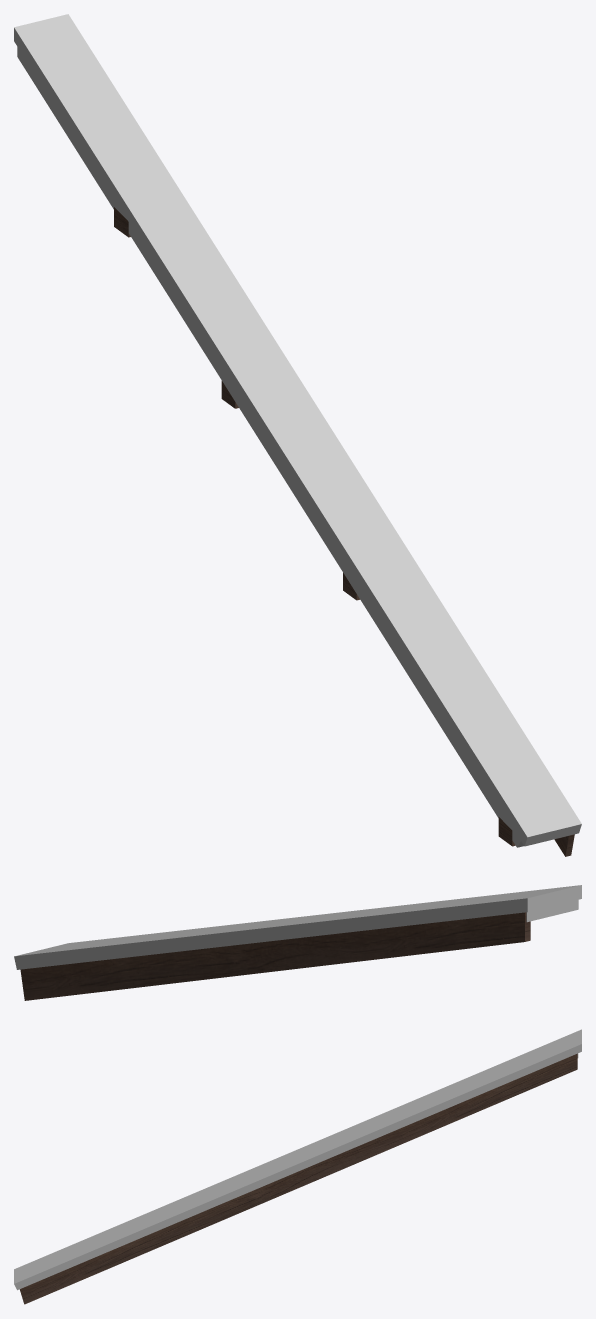
The model's file is kawara__x4t_a1end_l.fbx.
3 views of the same model, one above another, from view 1: azimuth 30°, elevation 25°; view 2: azimuth 210°, elevation 25°; view 3: azimuth 270°, elevation 25° (orthographic). The views are drawn at different scales.
Visible parts, largest first — view 1: kawara__x4t_a1end_l; view 2: kawara__x4t_a1end_l; view 3: kawara__x4t_a1end_l.
Boxes of the visible parts, x1,y1,x2,y2 form: kawara__x4t_a1end_l: [14, 14, 581, 856]; kawara__x4t_a1end_l: [14, 885, 581, 1000]; kawara__x4t_a1end_l: [14, 1029, 581, 1304].
Size of the model in its own units: 30 by 249 by 490.
